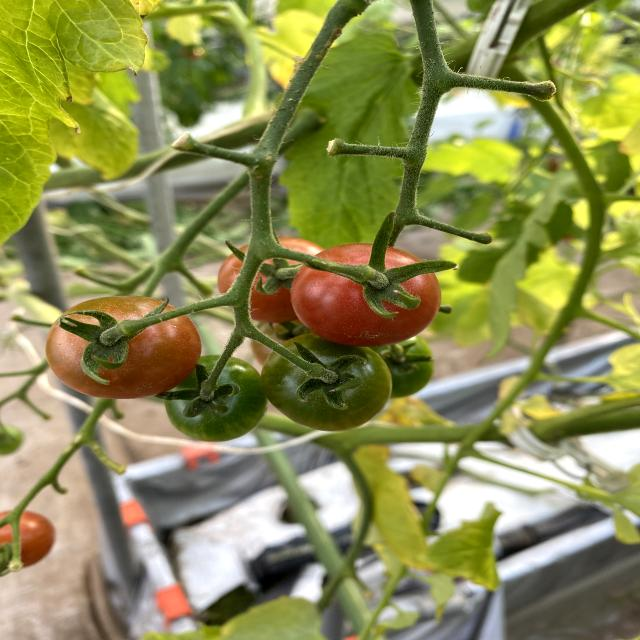ripe0: (263, 348, 391, 432), (183, 355, 263, 442)
ripe2: (46, 295, 202, 400), (290, 244, 444, 347)
